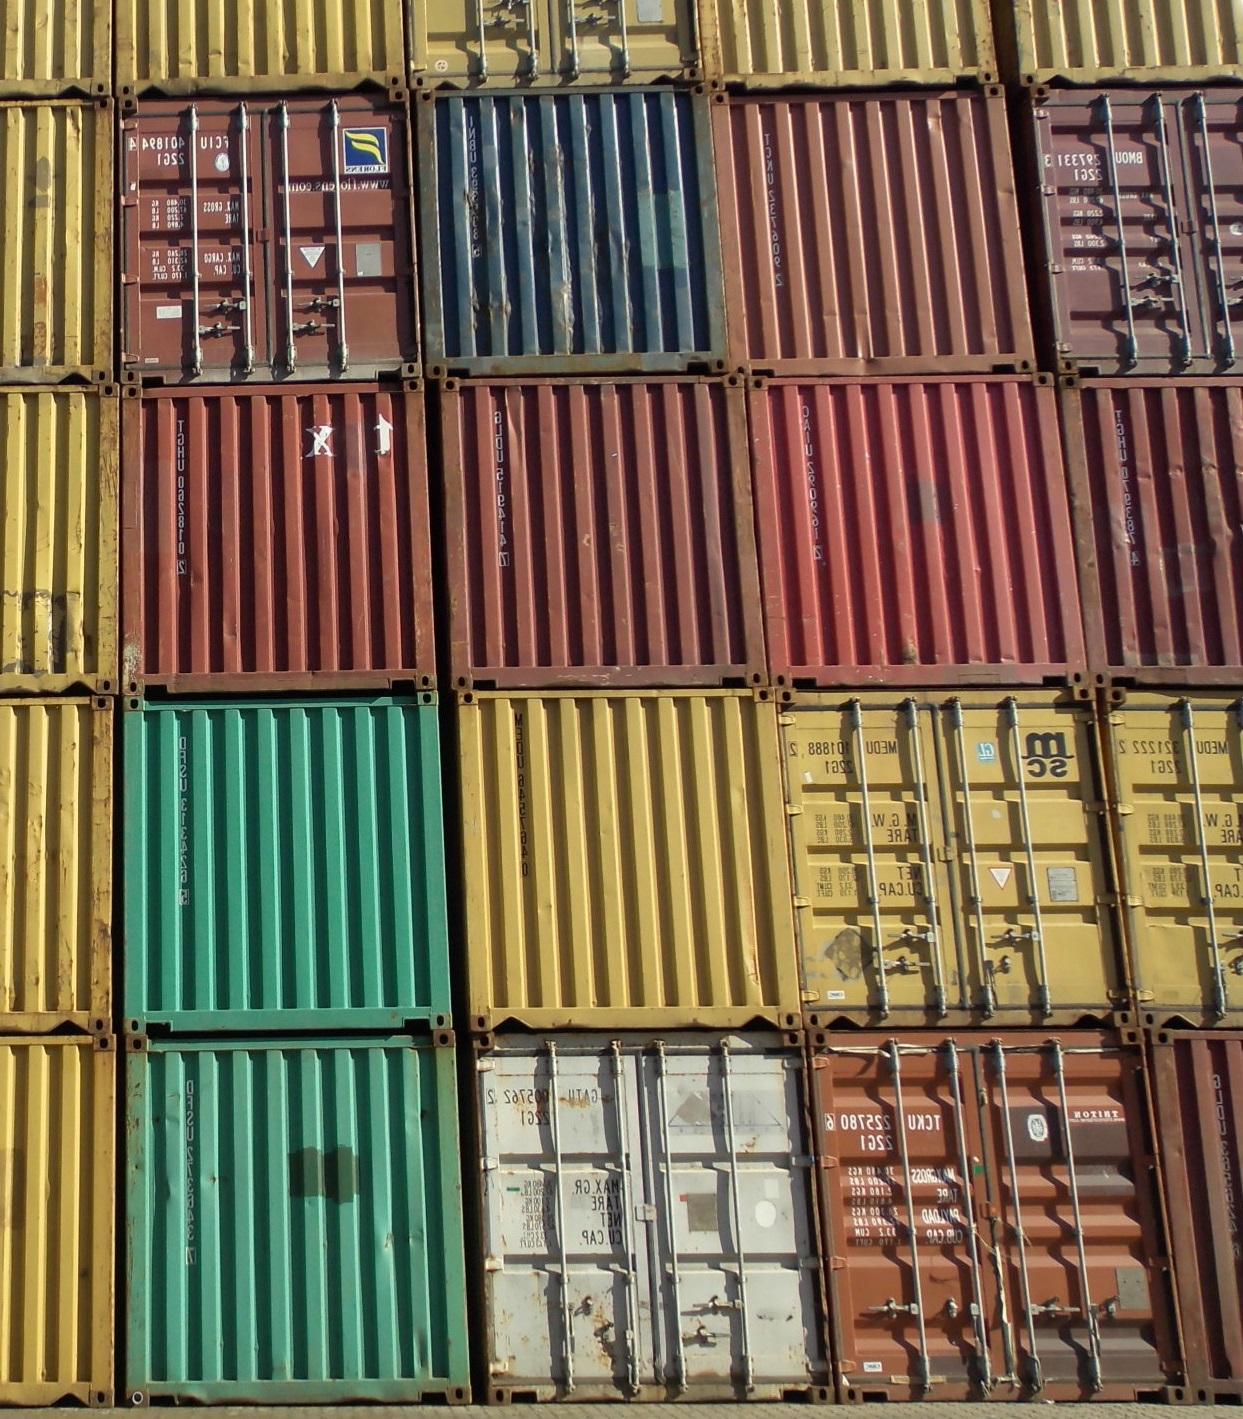container_door: (809, 1026, 1185, 1405), (468, 1030, 819, 1406), (774, 688, 1116, 1026), (116, 97, 419, 381), (1043, 84, 1243, 372), (1111, 687, 1243, 1026)
container_no_door: (122, 1030, 474, 1406), (123, 693, 448, 1030), (457, 691, 781, 1030), (442, 376, 772, 691), (760, 376, 1085, 684), (123, 383, 434, 691), (726, 83, 1035, 376), (420, 84, 728, 376), (1086, 378, 1243, 687), (1, 1038, 116, 1403), (1, 697, 119, 1032), (1, 383, 116, 694), (1, 103, 116, 381), (116, 1, 403, 92)
